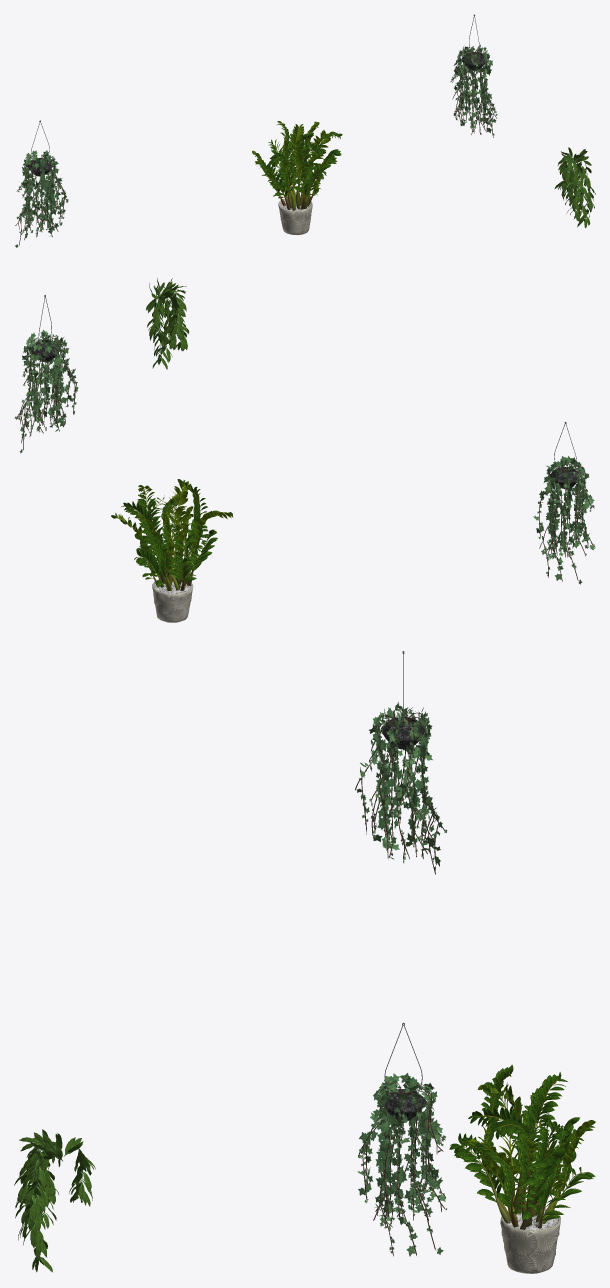
File: plants.glb
3 views of the same model, one above another, from view 1: azimuth 30°, elevation 25°; view 2: azimuth 150°, elevation 25°; view 3: azimuth 270°, elevation 25° (orthographic). The views are drawn at different scales.
Parts seen in each view (by area): view 1: PlantZZ001, plant.001, plant.000, Stem 1.001, Aset_clay_pot_S_ueilahthw_LOD0; view 2: PlantZZ001, plant.001, plant.000, Stem 1.001, Aset_clay_pot_S_ueilahthw_LOD0; view 3: PlantZZ001, plant.000, plant.001, Stem 1.001, Aset_clay_pot_S_ueilahthw_LOD0.
Part boxes in pixels (x1=…): PlantZZ001: x1=252, y1=121, x2=342, y2=210; plant.001: x1=15, y1=120, x2=68, y2=247; plant.000: x1=450, y1=14, x2=497, y2=137; Stem 1.001: x1=554, y1=147, x2=595, y2=228; Aset_clay_pot_S_ueilahthw_LOD0: x1=278, y1=197, x2=312, y2=234; PlantZZ001: x1=111, y1=479, x2=233, y2=590; plant.001: x1=533, y1=421, x2=595, y2=584; plant.000: x1=14, y1=295, x2=78, y2=453; Stem 1.001: x1=146, y1=278, x2=189, y2=369; Aset_clay_pot_S_ueilahthw_LOD0: x1=152, y1=577, x2=193, y2=622; PlantZZ001: x1=449, y1=1064, x2=595, y2=1229; plant.000: x1=357, y1=1022, x2=446, y2=1256; plant.001: x1=355, y1=651, x2=447, y2=874; Stem 1.001: x1=14, y1=1129, x2=95, y2=1272; Aset_clay_pot_S_ueilahthw_LOD0: x1=500, y1=1203, x2=560, y2=1273.
Bounding box in the file's own units: 4.79 × 1.99 × 2.88.
9 materials, 6 textured.
